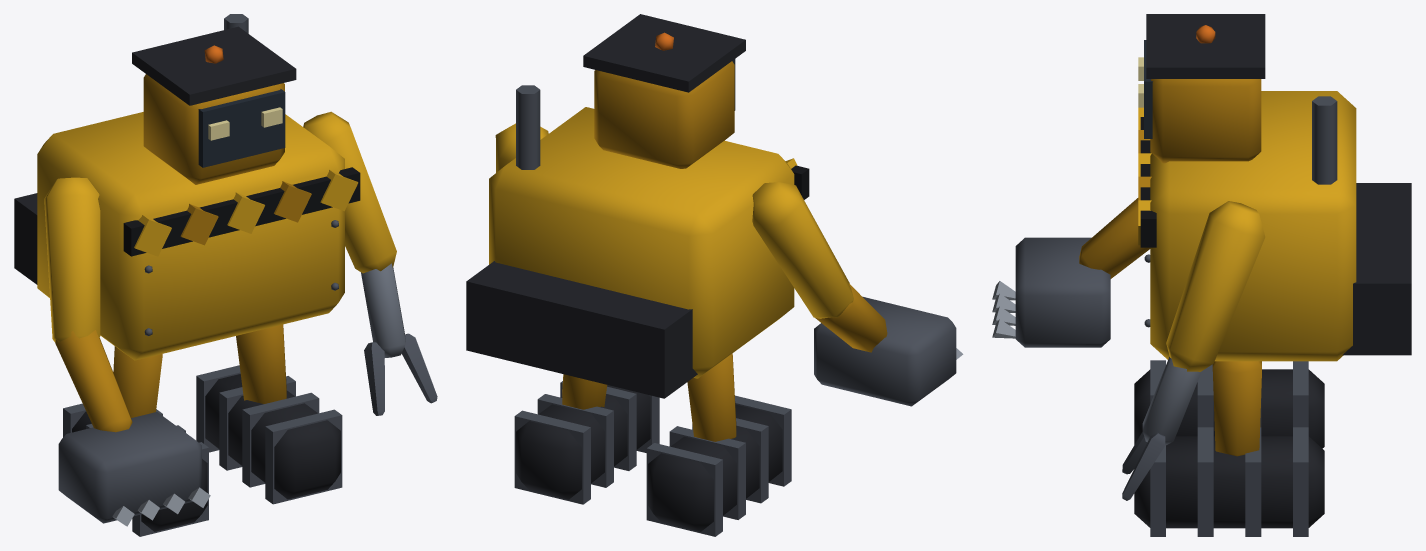
File: e_maschinen_baggergolem.glb
3 views of the same model, side by side, from view 1: azimuth 30°, elevation 25°; view 2: azimuth 150°, elevation 25°; view 3: azimuth 270°, elevation 25° (orthographic). The views are drawn at different scales.
Visible parts, largest first — view 1: body; view 2: body; view 3: body.
Part boxes in pixels (x1=…): body: x1=14, y1=14, x2=437, y2=536; body: x1=466, y1=14, x2=963, y2=536; body: x1=992, y1=14, x2=1411, y2=536.
Bounding box in the file's own units: 2.93 × 3.21 × 2.65.
